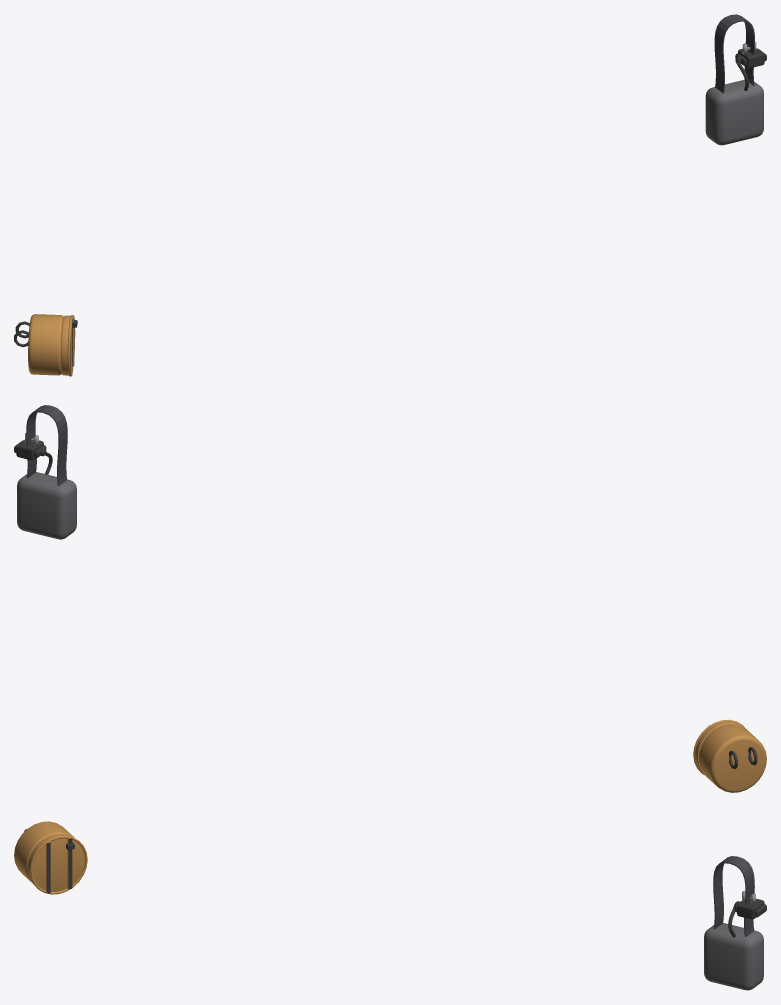
File: SCSR_Training.fbx
The picture shows the model from 3 angles, top to bottom: view 1: azimuth 30°, elevation 25°; view 2: azimuth 150°, elevation 25°; view 3: azimuth 330°, elevation 25°; orthographic projection. The views are drawn at different scales.
Parts seen in each view (by area): view 1: SCSR_CanisterBody, SCSR_CaseBody, SCSR_NeckStrap, SCSR_CaseLid; view 2: SCSR_CanisterBody, SCSR_CaseBody, SCSR_NeckStrap; view 3: SCSR_CanisterBody, SCSR_CaseLid, SCSR_NeckStrap, SCSR_CaseBody, SCSR_Mouthpiece.
Boxes of the visible parts, x1,y1,x2,y2 form: SCSR_CanisterBody: (705, 79, 763, 145); SCSR_CaseBody: (28, 314, 63, 375); SCSR_NeckStrap: (714, 14, 754, 93); SCSR_CaseLid: (61, 315, 77, 376); SCSR_CanisterBody: (17, 472, 76, 539); SCSR_CaseBody: (698, 725, 766, 792); SCSR_NeckStrap: (26, 405, 67, 485); SCSR_CanisterBody: (704, 923, 763, 990); SCSR_CaseLid: (27, 834, 87, 894); SCSR_NeckStrap: (713, 856, 754, 936); SCSR_CaseBody: (14, 821, 74, 883); SCSR_Mouthpiece: (734, 898, 766, 919).
Bounding box in the file's own units: 2.6 × 0.6652 × 0.2224.
